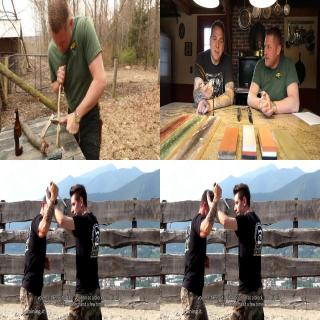knife: (48, 111, 80, 135), (194, 58, 212, 97), (48, 179, 68, 209), (212, 180, 230, 210)
